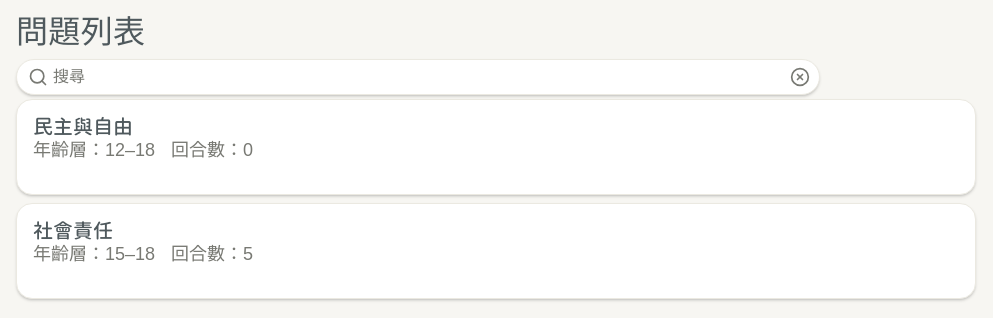
Scenario: CourseView › clears the search with Escape
This screenshot has width=993, height=318.
Expected: the number of list items is 2, [16, 99, 976, 195]; [16, 203, 976, 299]
Step 1. Type "民主" into the search field with placeholder "搜尋" → (418, 77), box [16, 59, 820, 95]
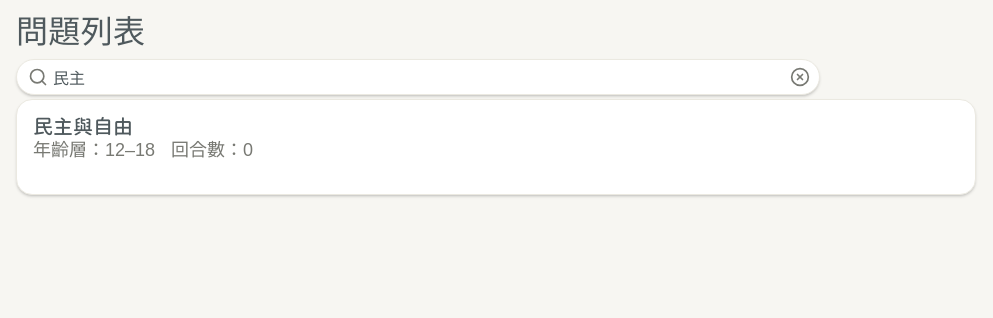
Step 2. Press Escape in the search field, box [16, 59, 820, 95]
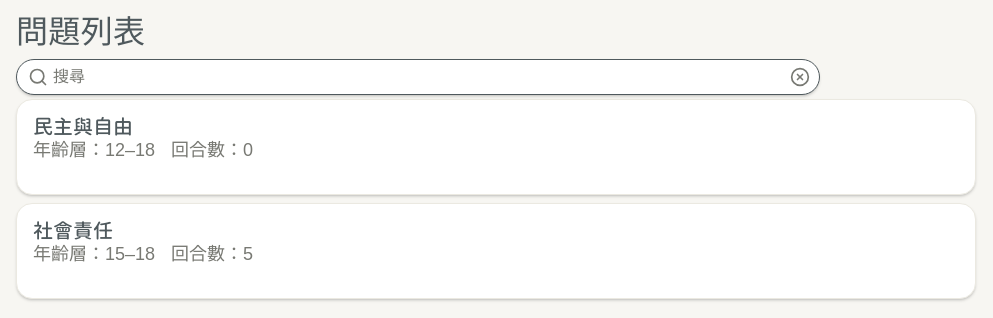
Expected: the number of list items is 2, [16, 99, 976, 195]; [16, 203, 976, 299]
Expected: the search field with placeholder "搜尋" is empty, [16, 59, 820, 95]
